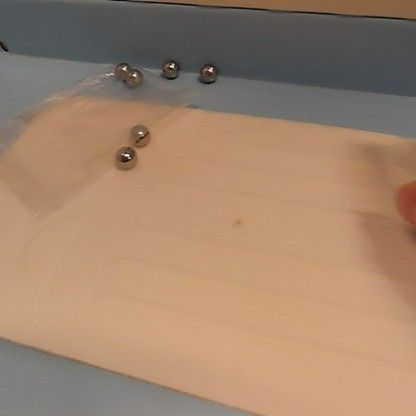ironball: (114, 143, 139, 171), (129, 120, 153, 148), (194, 60, 220, 85), (155, 57, 180, 79), (122, 66, 143, 86), (111, 58, 131, 76)
